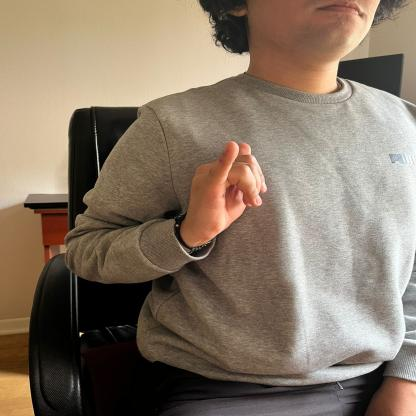I: (184, 132, 274, 235)
